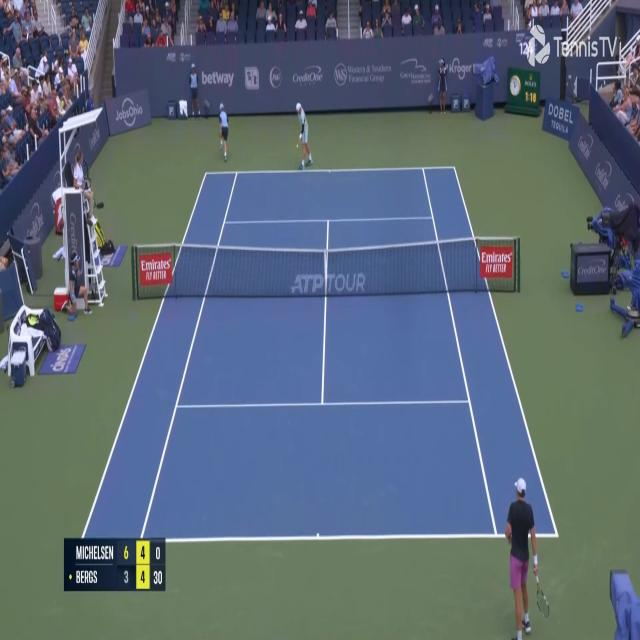tennis-player: (503, 476, 550, 640), (293, 99, 314, 171)
